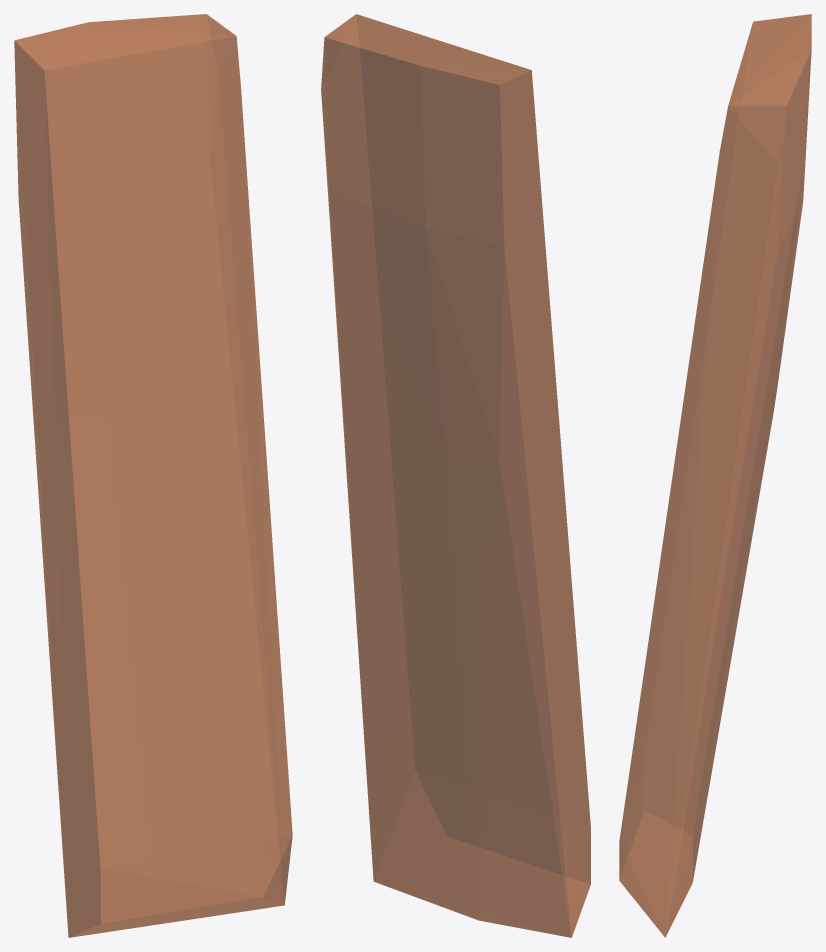
3 renders of one model, left to right at view 1: azimuth 30°, elevation 25°; view 2: azimuth 150°, elevation 25°; view 3: azimuth 270°, elevation 25°, orthographic. The views are drawn at different scales.
Parts seen in each view (by area): view 1: Shape_IndexedFaceSet.038_Shape_IndexedFaceSet.6445; view 2: Shape_IndexedFaceSet.038_Shape_IndexedFaceSet.6445; view 3: Shape_IndexedFaceSet.038_Shape_IndexedFaceSet.6445.
Part boxes in pixels (x1=…): Shape_IndexedFaceSet.038_Shape_IndexedFaceSet.6445: x1=14, y1=14, x2=292, y2=937; Shape_IndexedFaceSet.038_Shape_IndexedFaceSet.6445: x1=321, y1=14, x2=590, y2=937; Shape_IndexedFaceSet.038_Shape_IndexedFaceSet.6445: x1=619, y1=14, x2=811, y2=937.
Bounding box in the file's own units: 0.1723 × 0.6988 × 0.1465.
